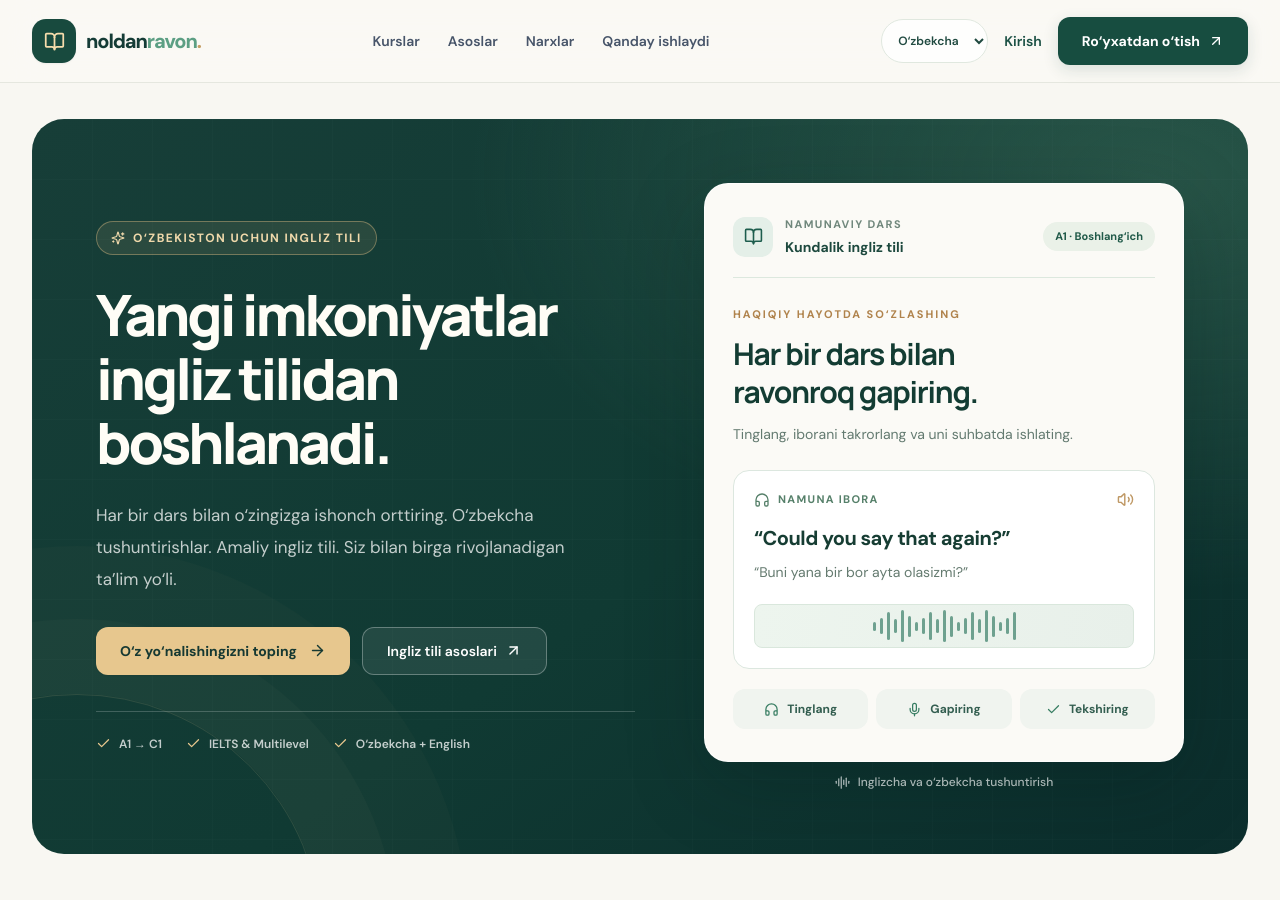
Test case: renders all five upcoming tracks and switches Uzbek to English
Expected: the heading "Yangi imkoniyatlar ingliz tilidan boshlanadi." is shown, [96,284,635,475]
Select "English" in the dropdown named "Interfeys tili" at x=935, y=41, box [881,19,988,63]
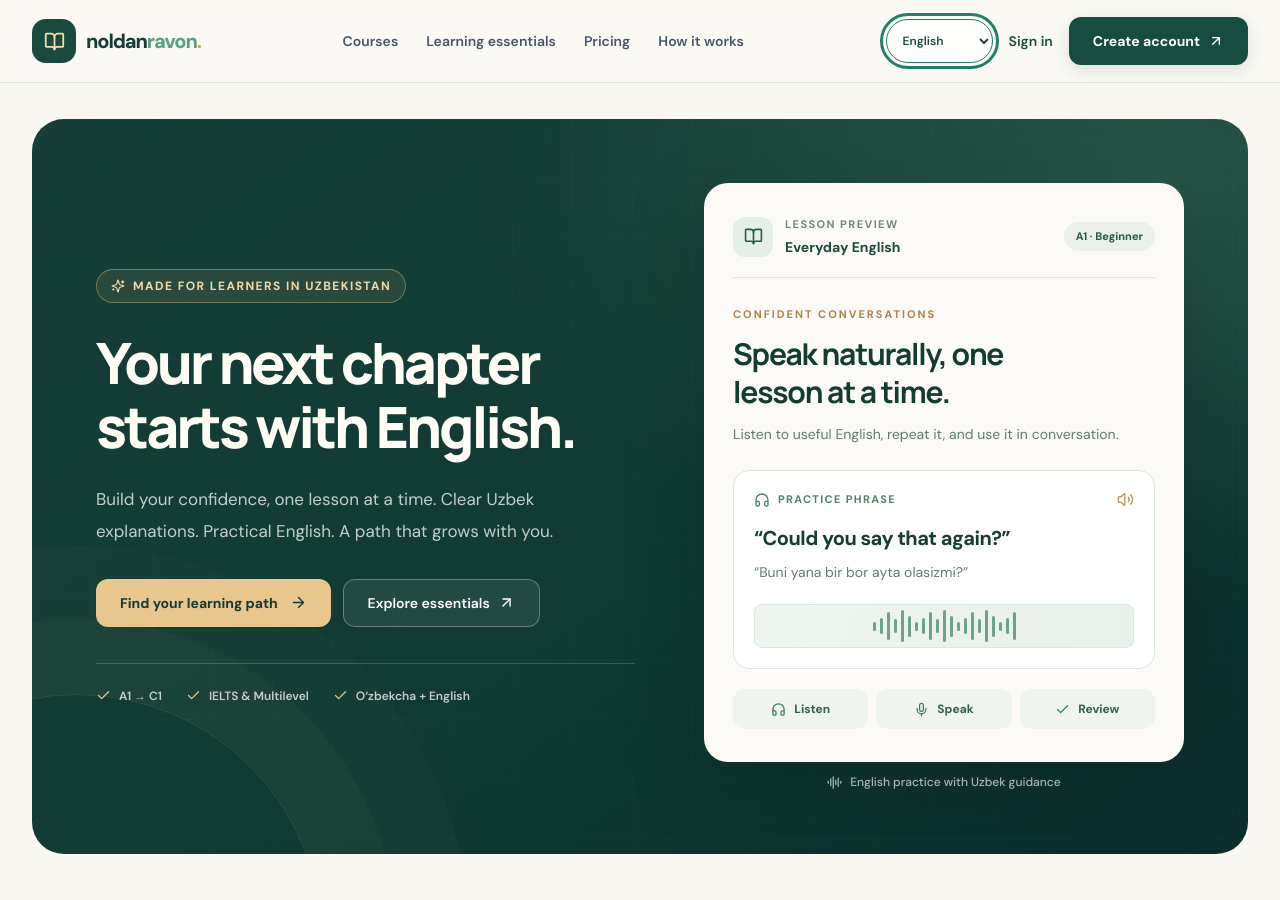
Now the heading "Your next chapter starts with English." is shown, box [96,331,635,459]
